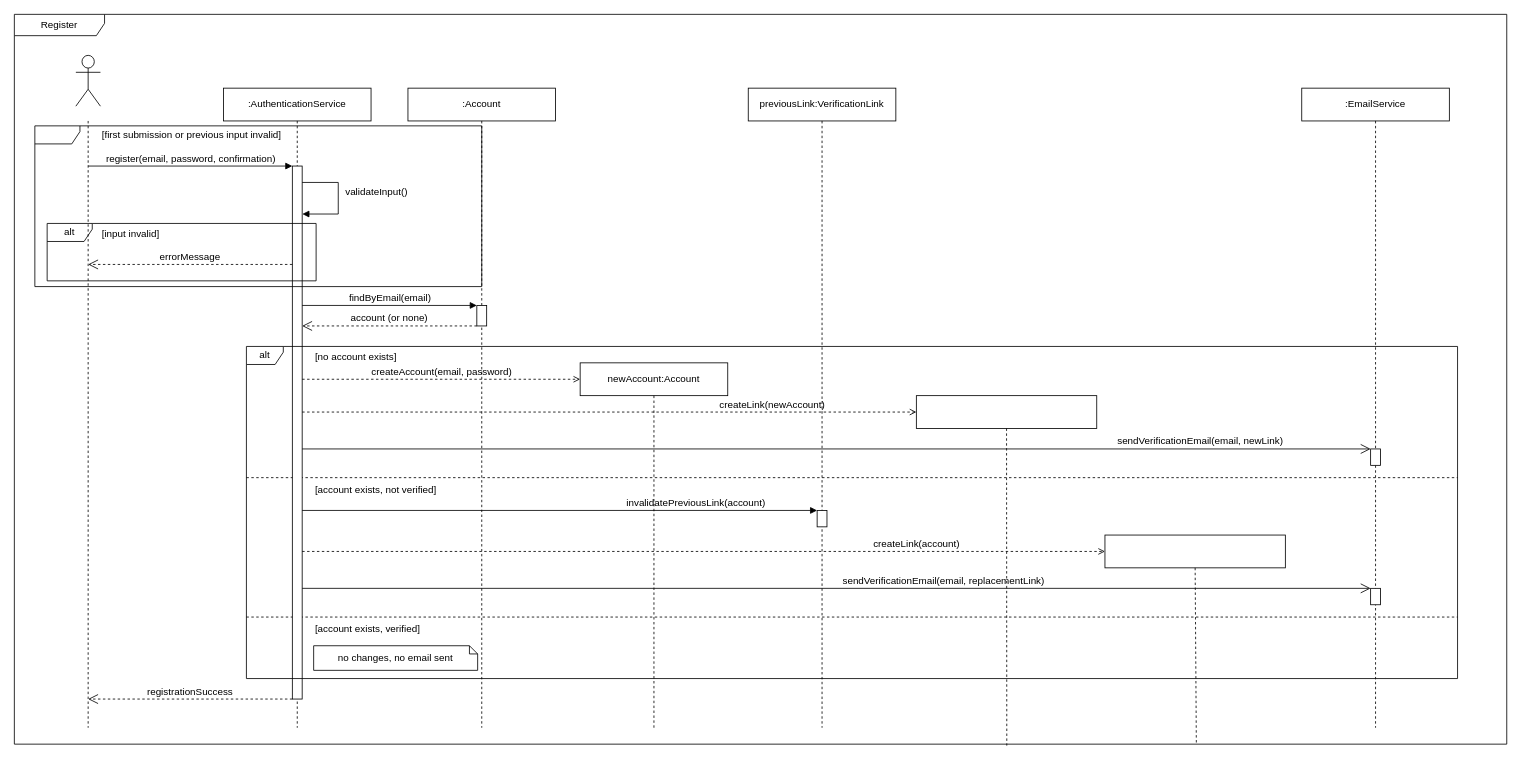
The diagram is 1521 pixels wide and 761 high, and some of its shapes have lost their labels. The shapes that lost their labels are listed below. From the top down, each one's box as (x1, y1, x2, y2) in pixels, then its label:
(75, 55, 100, 106): User
(34, 125, 482, 287): loop
(916, 395, 1097, 428): newLink:VerificationLink
(1104, 534, 1285, 568): replacementLink:VerificationLink
